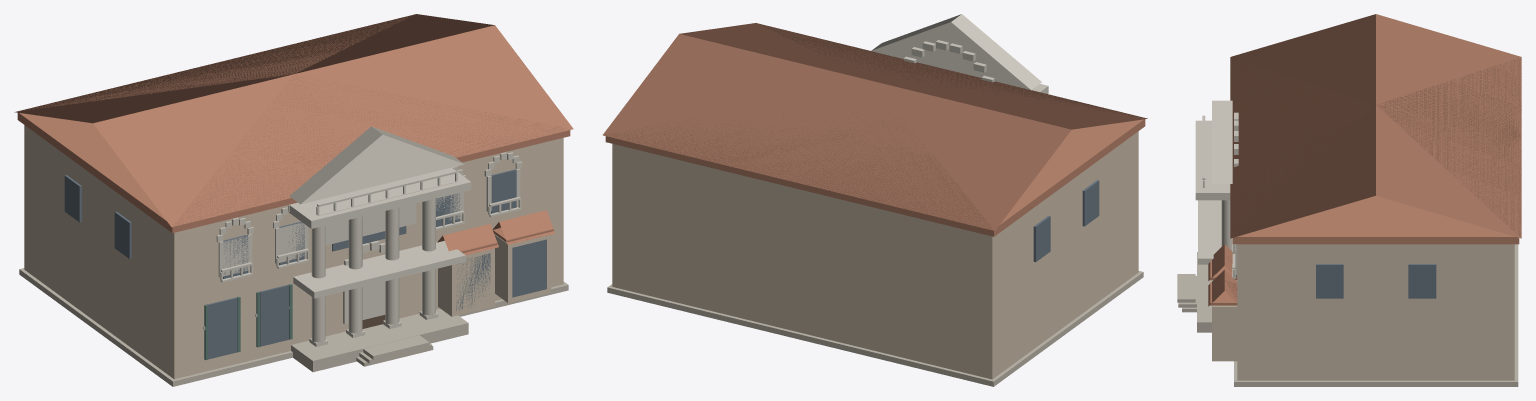
Rendered from italian-villa.glb.
3 renders of one model, left to right at view 1: azimuth 30°, elevation 25°; view 2: azimuth 150°, elevation 25°; view 3: azimuth 270°, elevation 25°, orthographic. The views are drawn at different scales.
Parts seen in each view (by area): view 1: HouseMassing; view 2: HouseMassing; view 3: HouseMassing.
Boxes of the visible parts, x1,y1,x2,y2 form: HouseMassing: (14, 14, 573, 386); HouseMassing: (603, 14, 1147, 386); HouseMassing: (1177, 14, 1521, 386).
Bounding box in the file's own units: 18.6 × 9.4 × 14.9.
